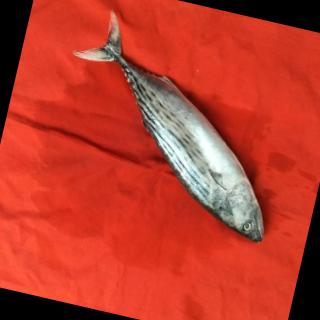Ikan: (34, 1, 313, 259)
